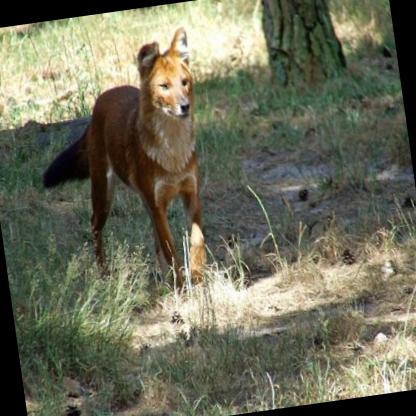dhole: (21, 24, 223, 306)
